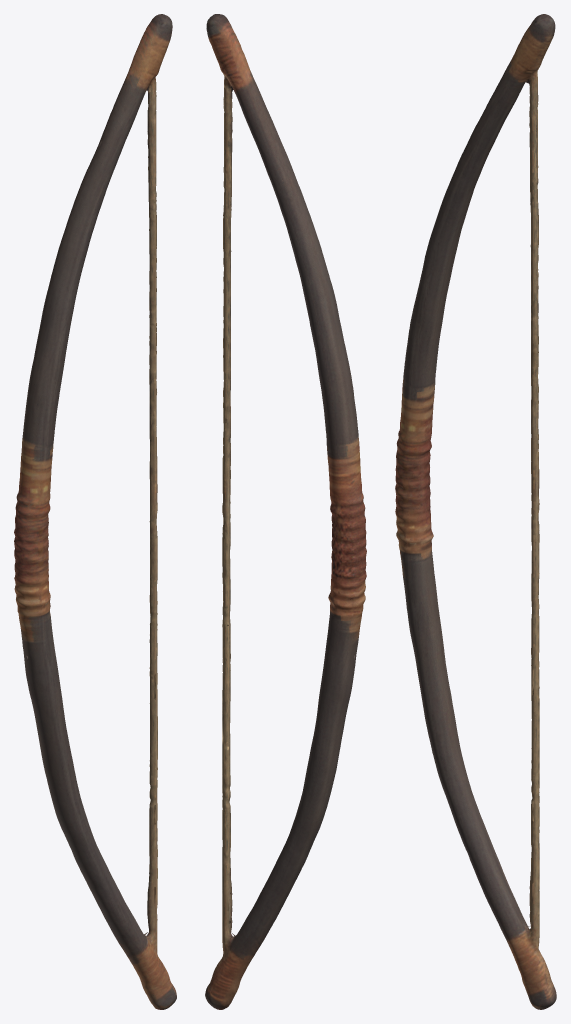
The model's file is Simple Bow.fbx.
3 renders of one model, left to right at view 1: azimuth 30°, elevation 25°; view 2: azimuth 150°, elevation 25°; view 3: azimuth 330°, elevation 25°, orthographic.
Visible parts, largest first — view 1: Mesh_0; view 2: Mesh_0; view 3: Mesh_0.
Part boxes in pixels (<box>): Mesh_0: <box>14,14,176,1009</box>; Mesh_0: <box>205,14,366,1009</box>; Mesh_0: <box>395,14,556,1009</box>.
Bounding box in the file's own units: 33.29 × 200 × 6.62.
1 material, 1 textured.
